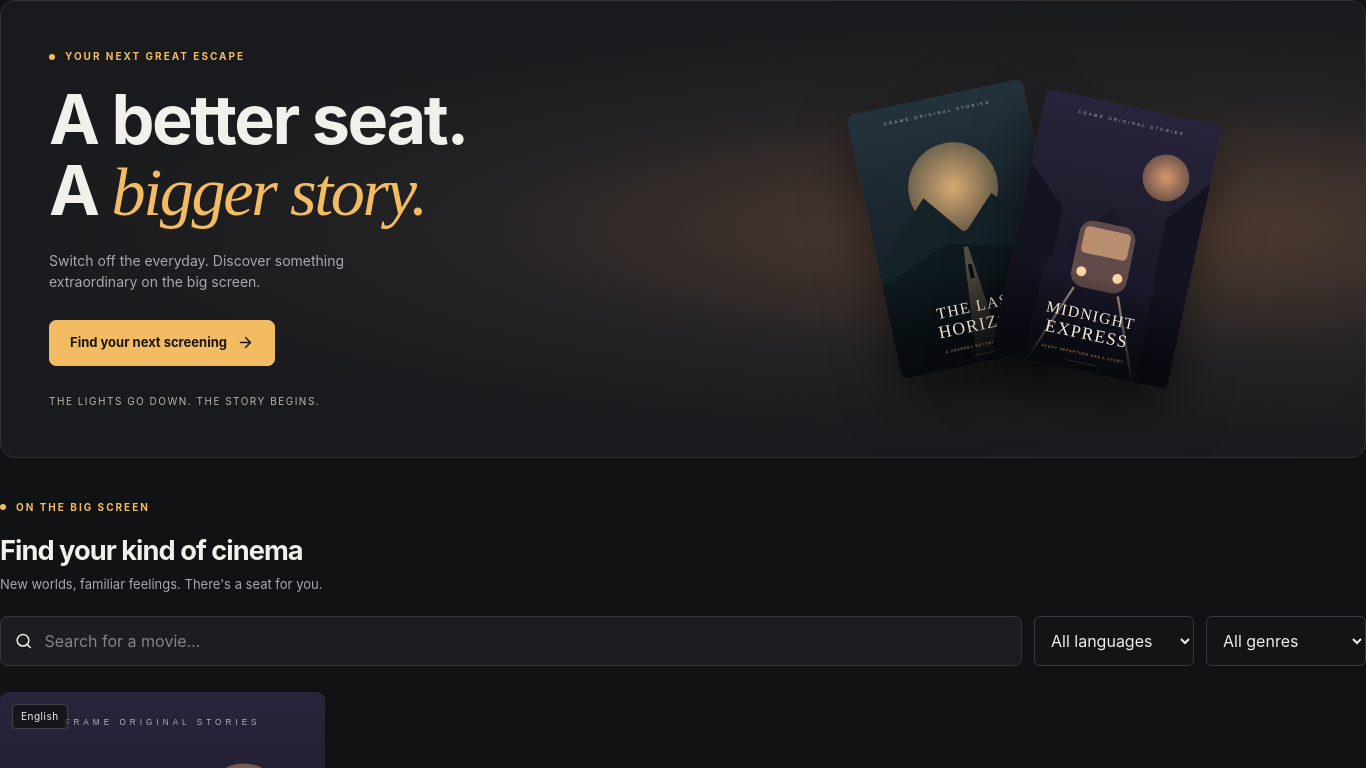
Test case: customer interface › shows real catalog data and filters to an empty state
The width and height of the screenshot is (1366, 768).
Type "missing" into the field named "Search movies" at {"x": 526, "y": 641}, box [44, 617, 1007, 665]
(page scrolled)
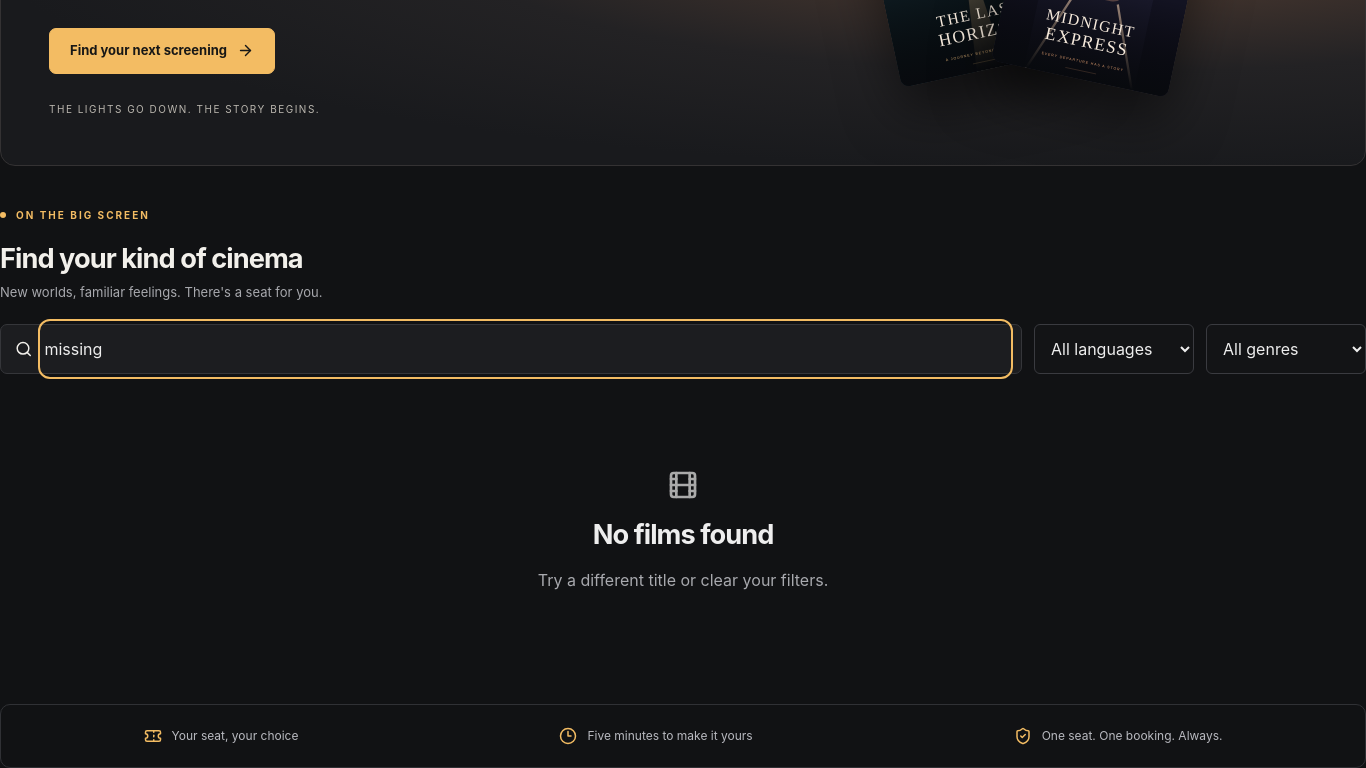
Check: the heading "No films found" is shown, box [593, 519, 773, 550]
